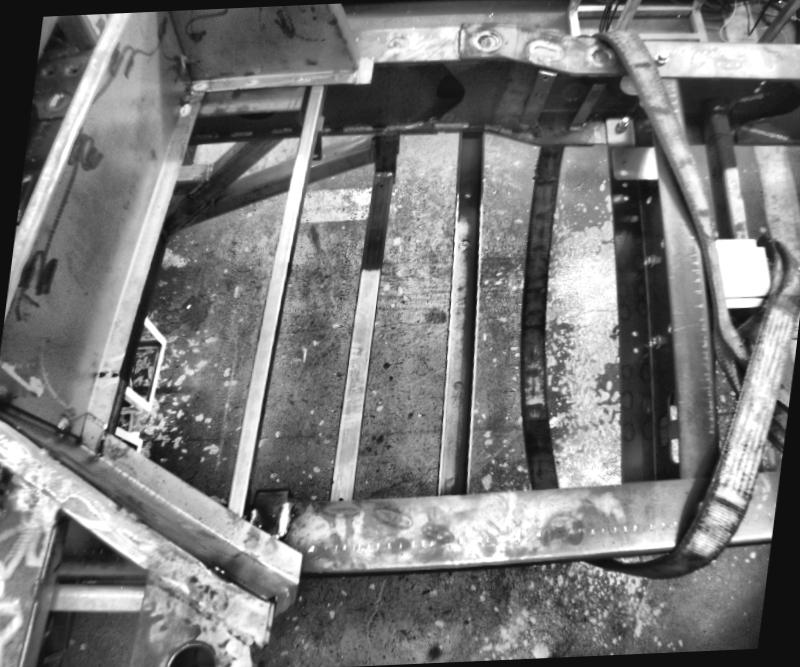bolt: (650, 48, 672, 68), (648, 334, 664, 350), (614, 117, 629, 134), (643, 252, 657, 268)
bracket: (249, 476, 305, 532), (516, 70, 553, 137), (563, 76, 603, 137), (606, 144, 662, 183), (310, 114, 334, 164)
hole: (164, 635, 225, 666), (450, 379, 466, 392), (446, 474, 457, 487), (629, 328, 641, 336), (463, 189, 472, 198), (461, 237, 470, 245), (630, 343, 638, 352), (374, 180, 382, 187), (620, 159, 628, 166), (314, 154, 322, 160)
